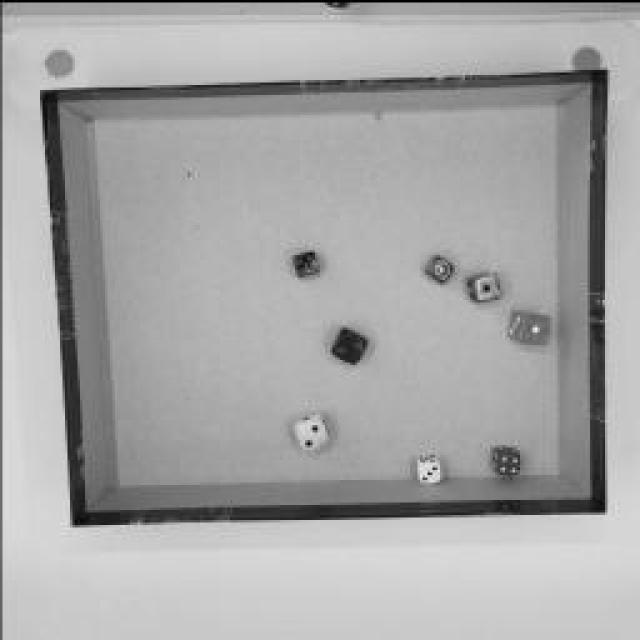dice_1: (506, 305, 552, 343), (468, 270, 502, 300), (424, 250, 451, 282)
dice_2: (329, 321, 369, 364), (294, 409, 328, 451)
dice_3: (410, 450, 442, 482)
dice_4: (491, 438, 521, 474)
dice_5: (290, 245, 320, 275)
